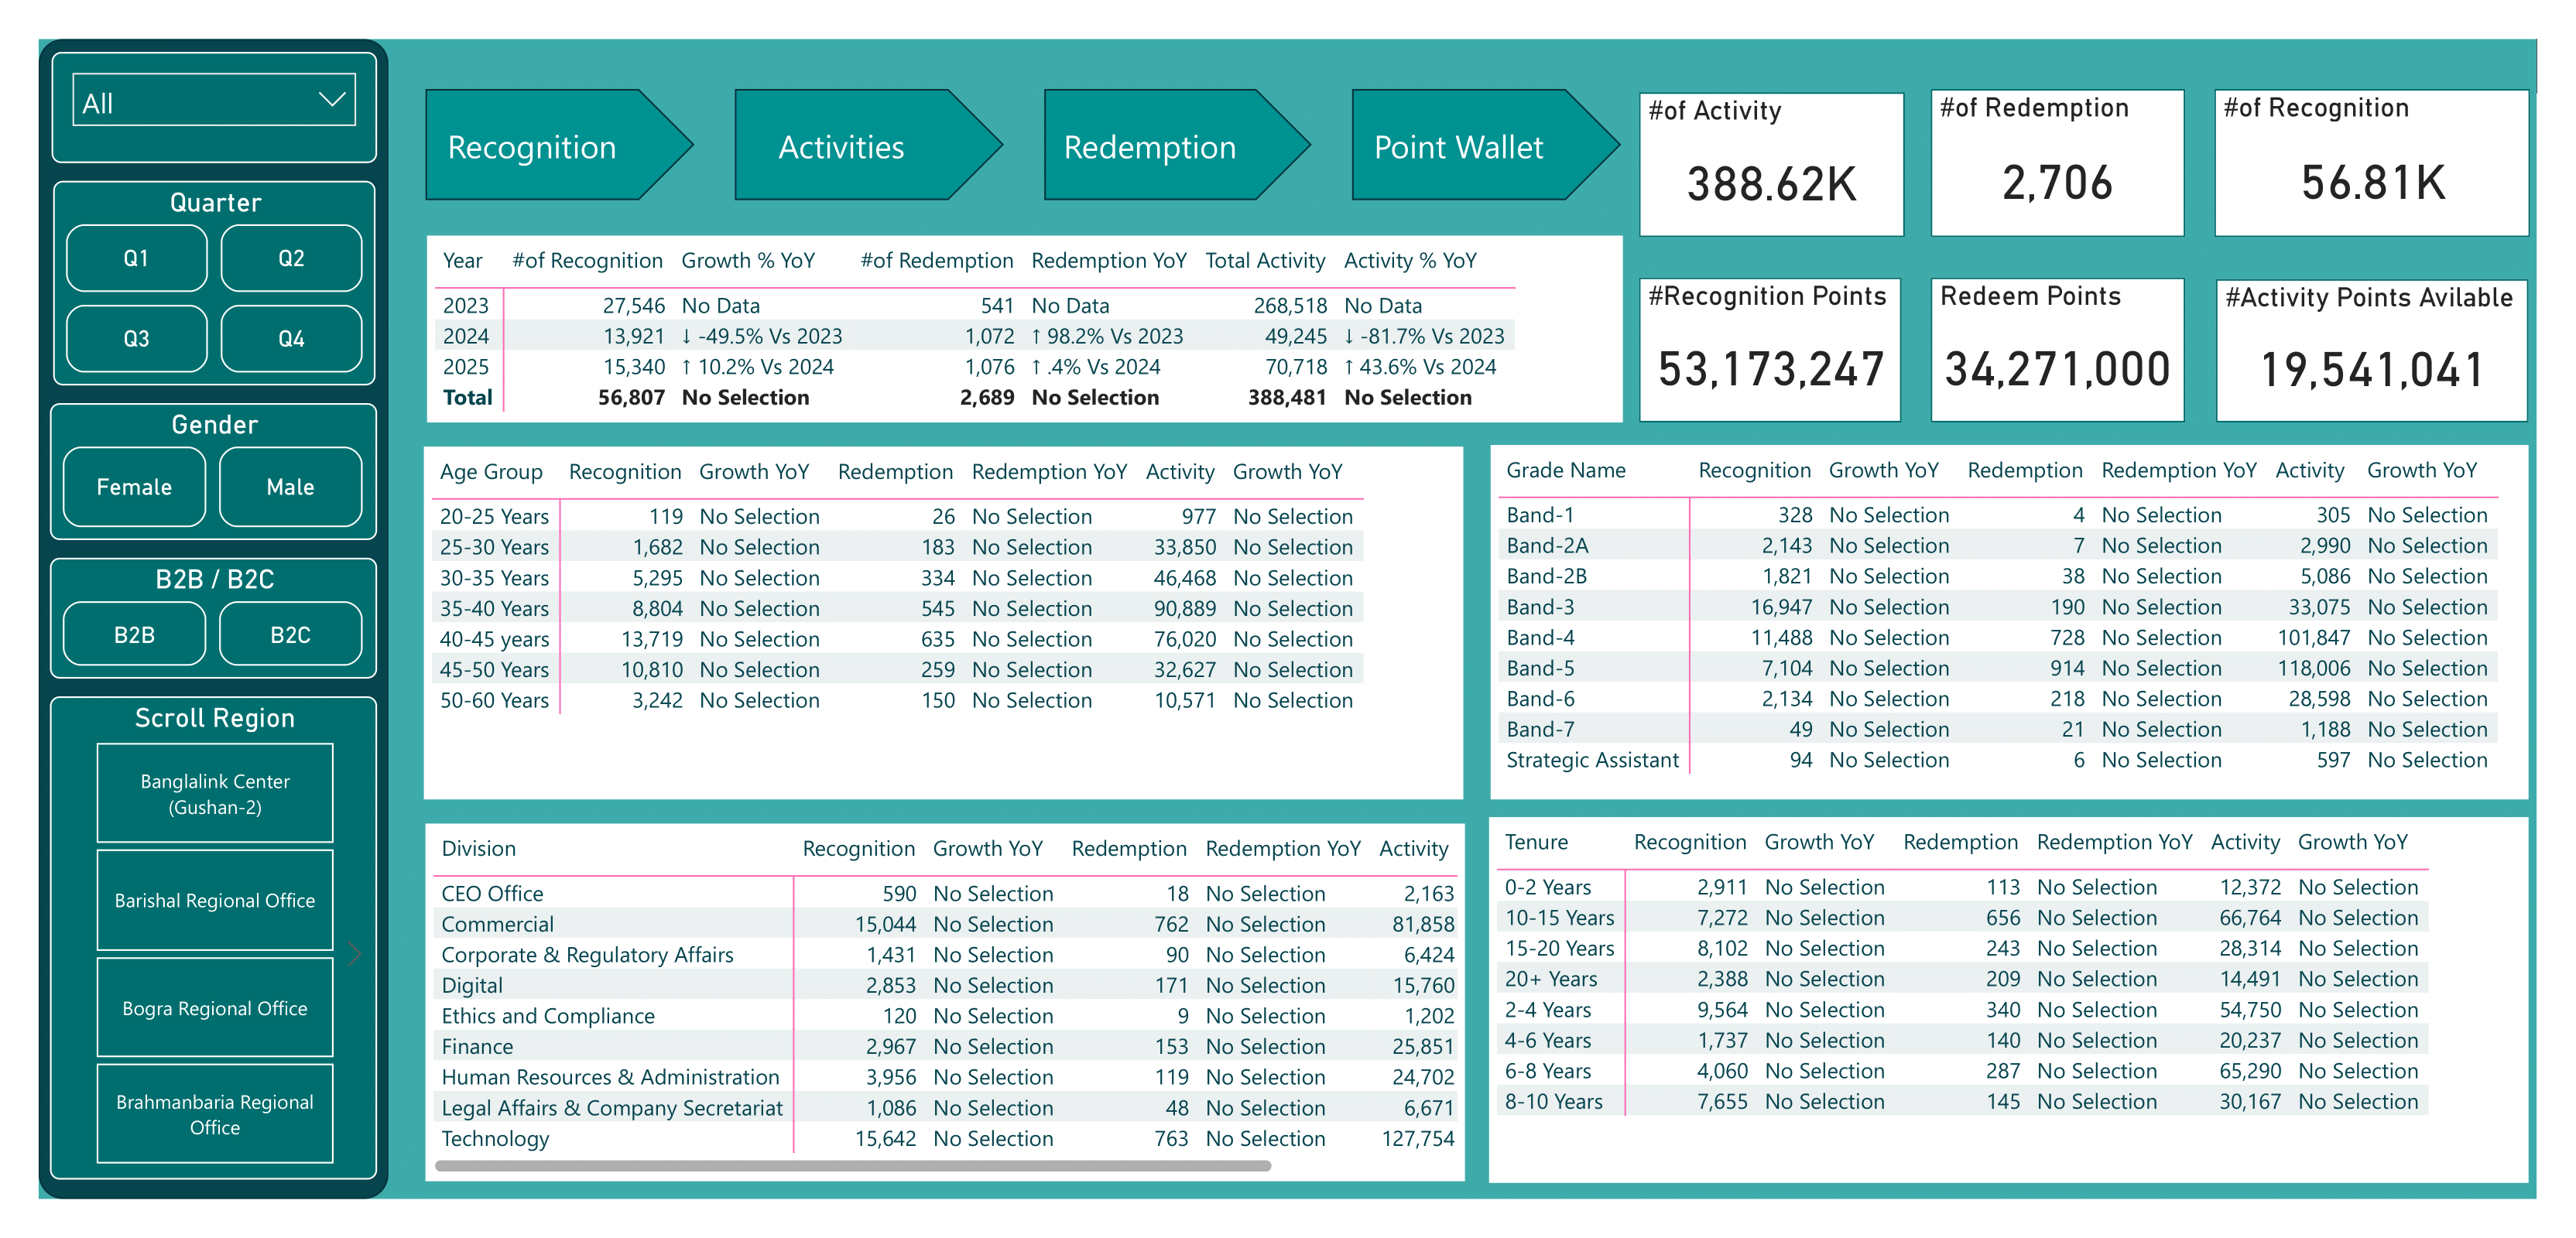

The page's visual inventory and layout, read from the dashboard file:
{"tool":"powerbi","page":{"name":"Summery","canvas":[1550,720],"ordinal":0},"visuals":[{"type":"shape","box":[0,0,217.4,720],"z":0},{"type":"slicer","fields":{"Values":["DimDate.Year"]},"box":[8.1,8.1,201.4,69.2],"z":1000},{"type":"advancedSlicerVisual","fields":{"Values":["DimDate.Quarter"]},"box":[8.6,87.9,200.2,126.8],"z":2000},{"type":"advancedSlicerVisual","fields":{"Values":["Active Employee Database 2025.Gender"]},"box":[7.2,226.2,203.1,85],"z":3000},{"type":"advancedSlicerVisual","fields":{"Values":["Category B2B  B2C.B2B / B2C"]},"box":[7.2,321.8,203,74.9],"z":4000},{"type":"slicer","title":"Scroll Region","fields":{"Values":["Active Employee Database 2025.Regional Office"]},"box":[7.2,407.5,203,301],"z":5000},{"type":"card","title":"#of Activity","fields":{"Values":["CountNonNull(Activities.Activity)"]},"box":[993,33,164.9,89.8],"z":6000},{"type":"card","title":"#of Recognition","fields":{"Values":["CountNonNull(Recognition Data.Link)"]},"box":[1350.3,31.1,196,91.6],"z":7000},{"type":"card","title":"#of Redemption","fields":{"Values":["CountNonNull(Redemption.Id)"]},"box":[1174.4,31.1,157.6,91.6],"z":8000},{"type":"card","title":"#Activity Points Avilable","fields":{"Values":["Sum(Activities.Amount)"]},"box":[1350.7,148.8,194.2,89.3],"z":9000},{"type":"card","title":"#Recognition Points","fields":{"Values":["Sum(Recognition Data.Points)"]},"box":[993,148.4,163.1,89.8],"z":10000},{"type":"card","title":"Redeem Points","fields":{"Values":["Redemption.Redemption Points"]},"box":[1174.4,148.4,157.6,89.8],"z":11000},{"type":"pivotTable","fields":{"Values":["Recognition Data.#of Recognition","Recognition Data.Growth % YoY","Redemption.#of Redemption","Redemption.Redemption Growth YoY","Activities.Total Activity","Activities.Activity Growth YoY"],"Rows":["DimDate.Year"]},"box":[240.6,121.9,742.2,115.6],"z":12000},{"type":"pivotTable","fields":{"Values":["Recognition Data.#of Recognition","Recognition Data.Growth % YoY","Redemption.#of Redemption","Redemption.Redemption Growth YoY","Activities.Total Activity","Activities.Activity Growth YoY"],"Rows":["Active Employee Database 2025.Age Group"]},"box":[239.1,252.7,644.5,219.4],"z":13000},{"type":"pivotTable","fields":{"Values":["Recognition Data.#of Recognition","Recognition Data.Growth % YoY","Redemption.#of Redemption","Redemption.Redemption Growth YoY","Activities.Total Activity","Activities.Activity Growth YoY"],"Rows":["Active Employee Database 2025.Division"]},"box":[239.9,487.3,645.2,221.6],"z":14000},{"type":"pivotTable","fields":{"Values":["Recognition Data.#of Recognition","Recognition Data.Growth % YoY","Redemption.#of Redemption","Redemption.Redemption Growth YoY","Activities.Total Activity","Activities.Activity Growth YoY"],"Rows":["Active Employee Database 2025.Grade Name"]},"box":[900.7,252.1,644.5,219.6],"z":15000},{"type":"pivotTable","fields":{"Values":["Recognition Data.#of Recognition","Recognition Data.Growth % YoY","Redemption.#of Redemption","Redemption.Redemption Growth YoY","Activities.Total Activity","Activities.Activity Growth YoY"],"Rows":["Active Employee Database 2025.Tenure"]},"box":[900,483.3,645,226.7],"z":16000},{"type":"shape","title":"Recognition","box":[240,30.7,166.7,69.6],"z":17000},{"type":"shape","title":"Recognition","box":[431.8,30.7,166.7,69.6],"z":18000},{"type":"shape","title":"Recognition","box":[815.3,30.7,166.7,69.6],"z":19000},{"type":"shape","title":"Recognition","box":[623.5,30.7,166.7,69.6],"z":20000}]}

Visuals, with their boxes on the page's 1550x720 design canvas (x1, y1, x2, y2). These are canvas units, not pixel positions in the 2576x1238 screenshot, which may show the page scaled, cropped or inside an application window:
shape: 0,0,217,720
slicer - DimDate.Year: 8,8,210,77
advancedSlicerVisual - DimDate.Quarter: 9,88,209,215
advancedSlicerVisual - Active Employee Database 2025.Gender: 7,226,210,311
advancedSlicerVisual - Category B2B  B2C.B2B / B2C: 7,322,210,397
"Scroll Region" slicer: 7,408,210,708
"#of Activity" card: 993,33,1158,123
"#of Recognition" card: 1350,31,1546,123
"#of Redemption" card: 1174,31,1332,123
"#Activity Points Avilable" card: 1351,149,1545,238
"#Recognition Points" card: 993,148,1156,238
"Redeem Points" card: 1174,148,1332,238
pivotTable - Recognition Data.#of Recognition x Recognition Data.Growth % YoY: 241,122,983,238
pivotTable - Recognition Data.#of Recognition x Recognition Data.Growth % YoY: 239,253,884,472
pivotTable - Recognition Data.#of Recognition x Recognition Data.Growth % YoY: 240,487,885,709
pivotTable - Recognition Data.#of Recognition x Recognition Data.Growth % YoY: 901,252,1545,472
pivotTable - Recognition Data.#of Recognition x Recognition Data.Growth % YoY: 900,483,1545,710
"Recognition" shape: 240,31,407,100
"Recognition" shape: 432,31,598,100
"Recognition" shape: 815,31,982,100
"Recognition" shape: 624,31,790,100
